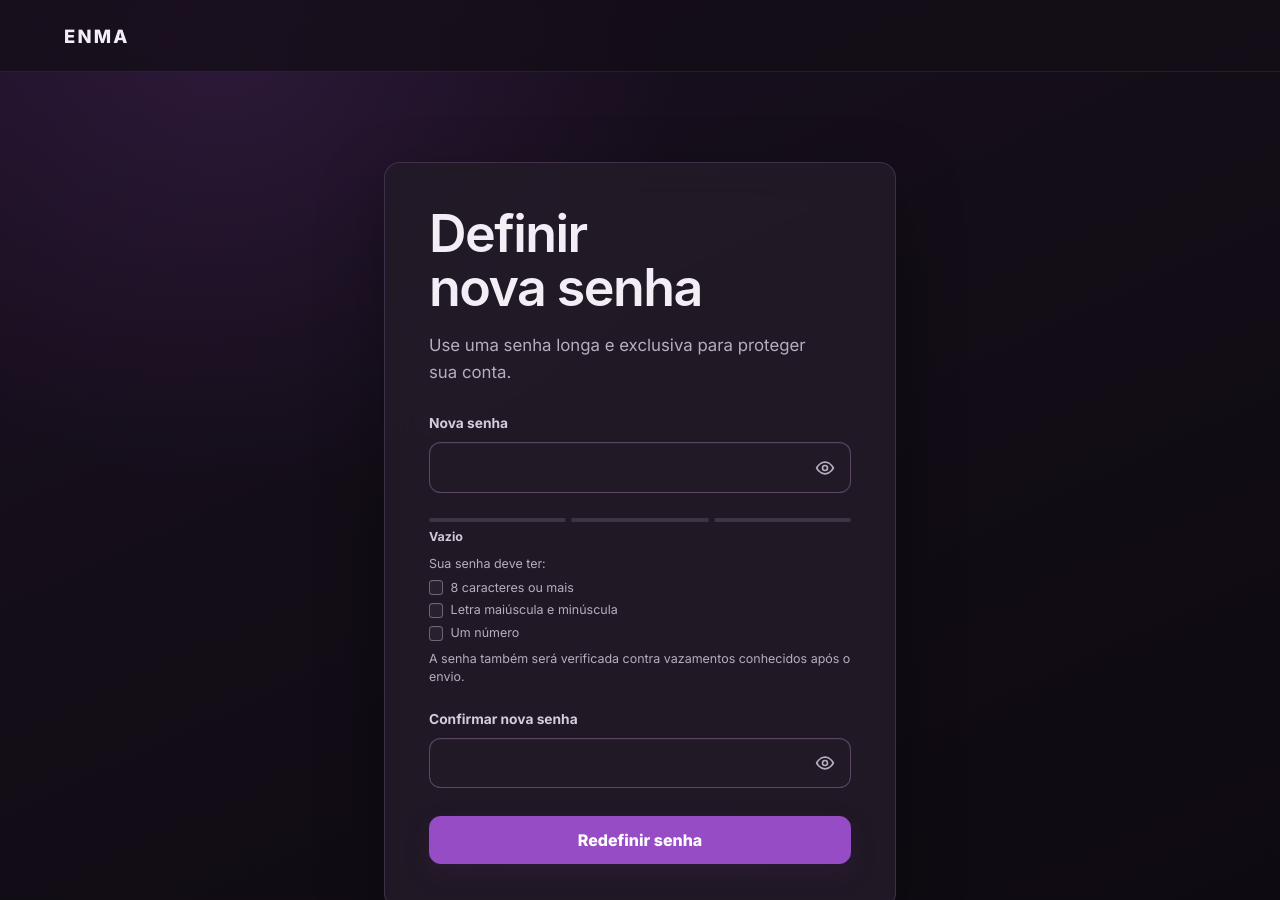
Test: password recovery flow › reset shows the real policy and blocks a short password locally
This screenshot has width=1280, height=900.
Type "curta" into the password field labelled "Nova senha".
click(640, 468); type("curta")  # box left=429, top=442, right=851, bottom=493
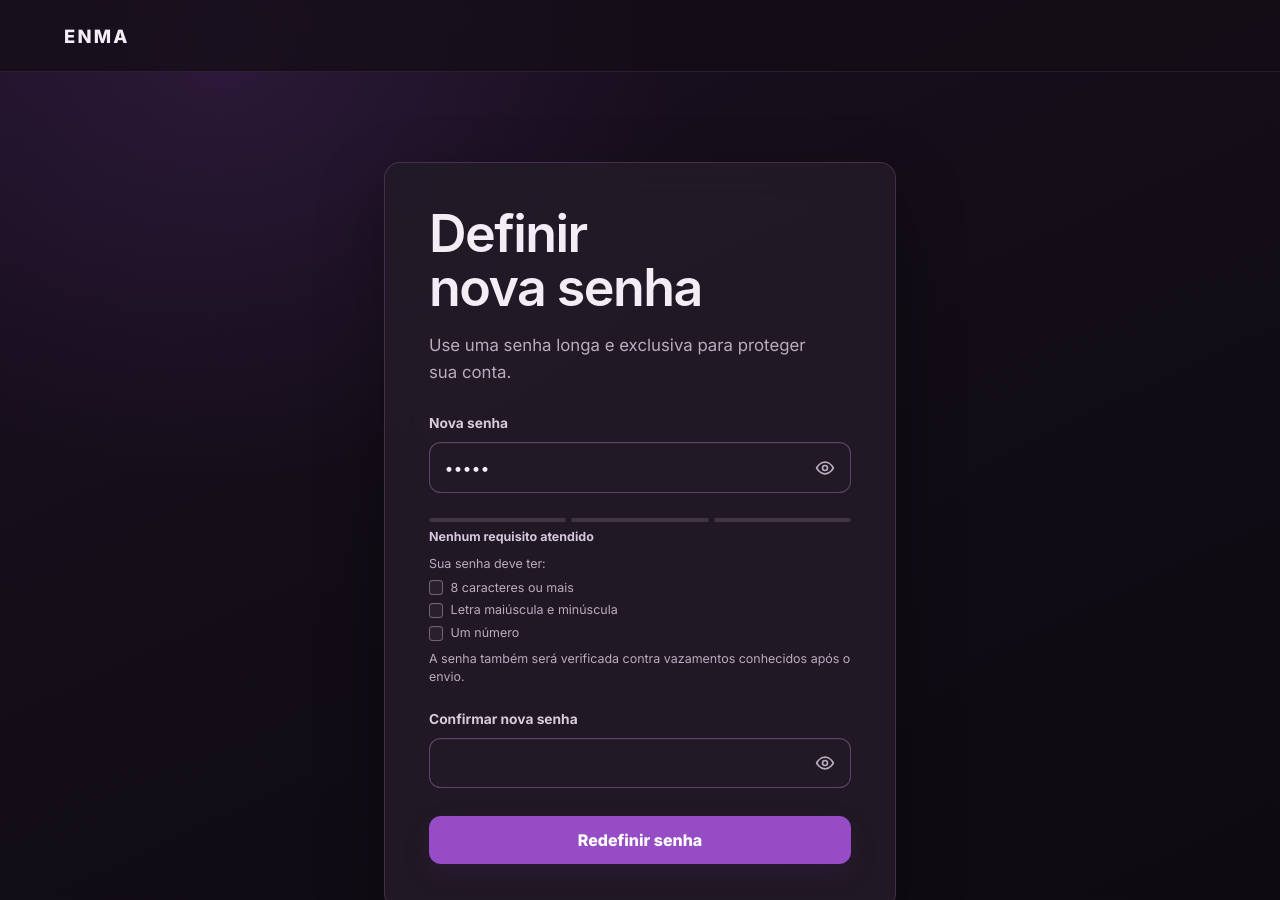
Type "curta" into the password field labelled "Confirmar nova senha".
click(640, 763); type("curta")  # box left=429, top=738, right=851, bottom=788
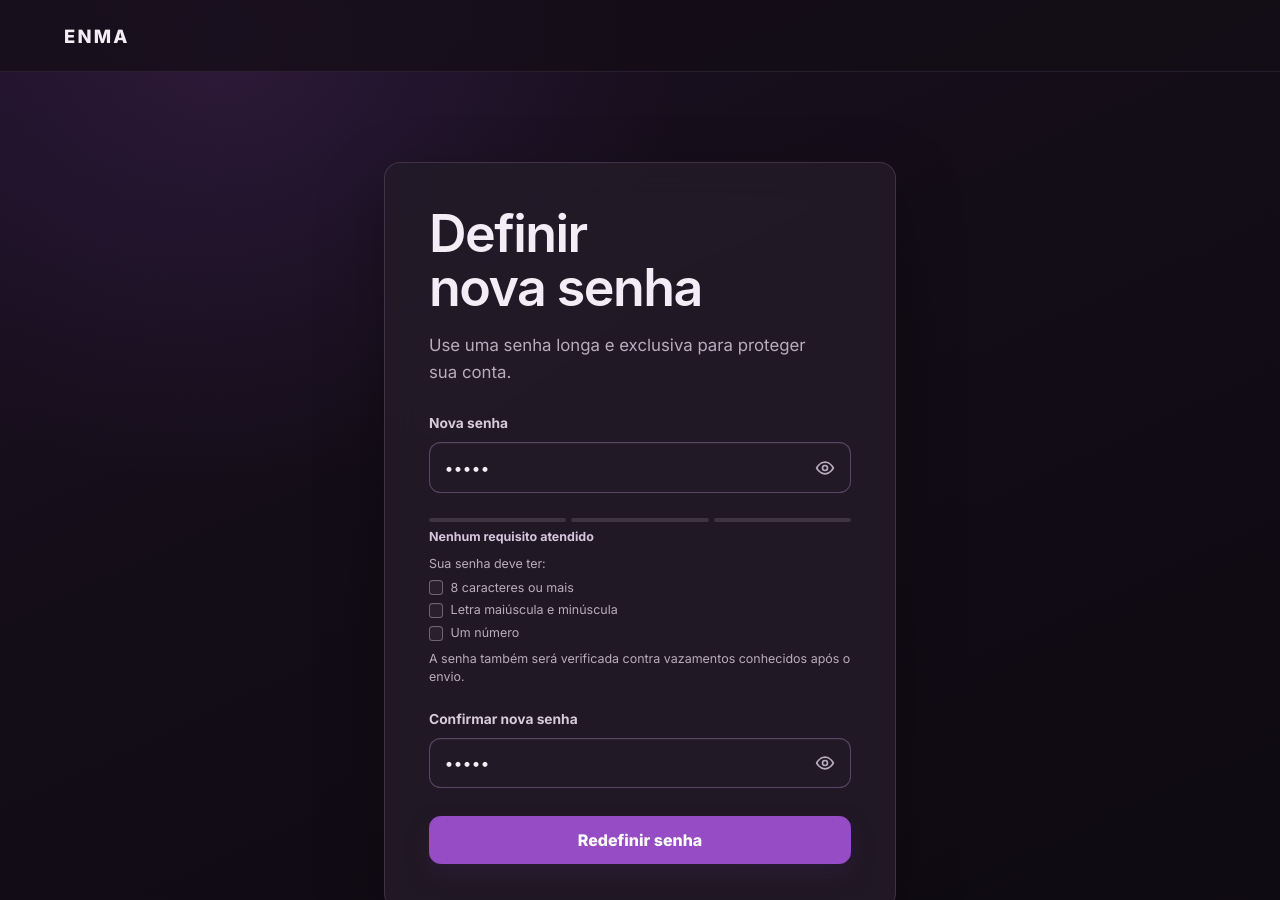
Check: the text "verificada contra vazamentos conhecidos" is shown, box left=429, top=651, right=850, bottom=684
Submit the form named "Redefinir senha", box left=429, top=415, right=851, bottom=864
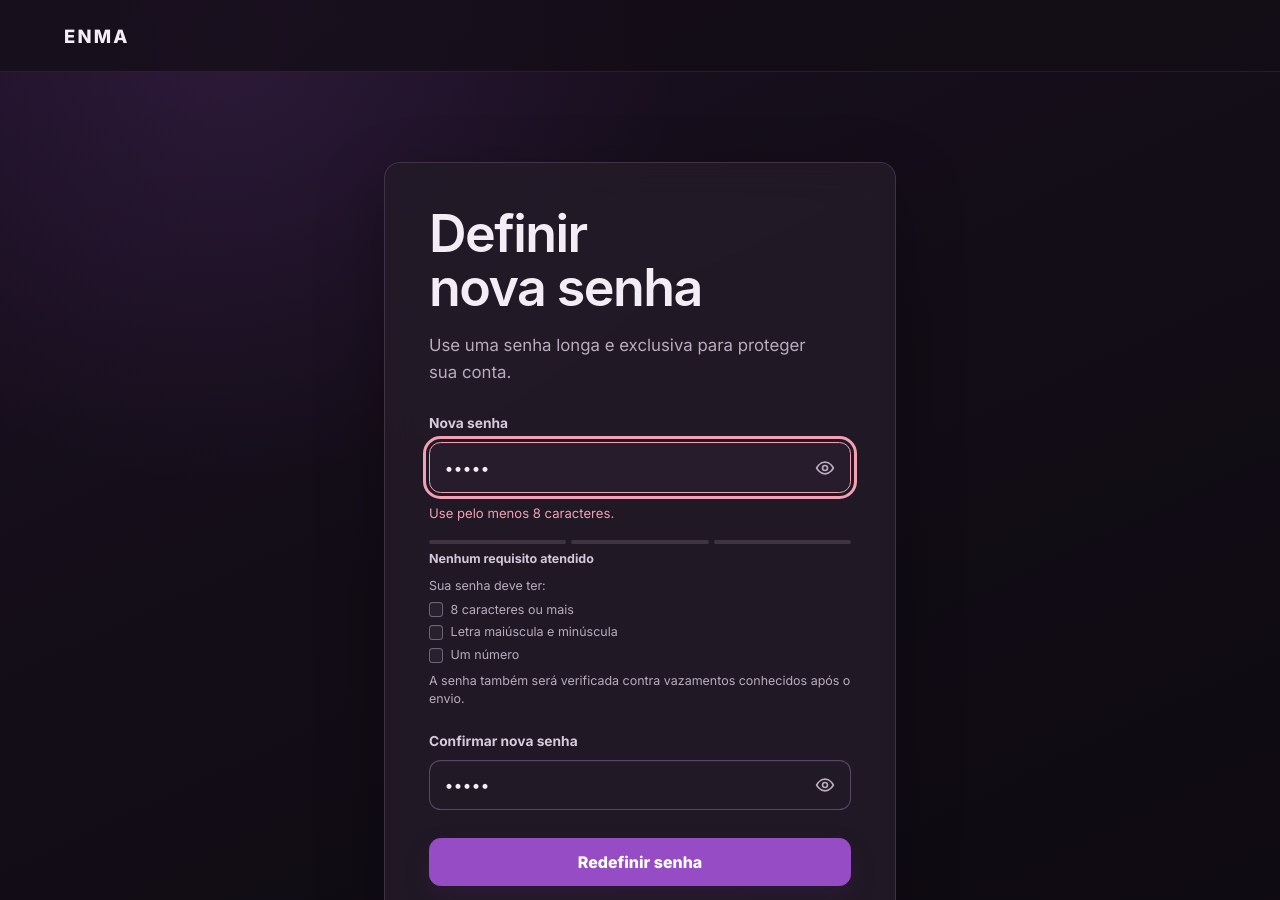
Check: the message "Use pelo menos 8 caracteres." is shown, box left=429, top=505, right=614, bottom=521
